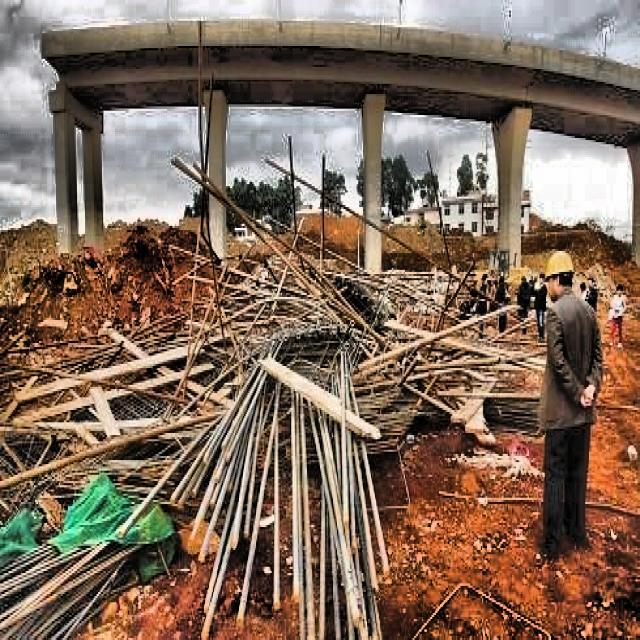helmet: (542, 240, 576, 308)
